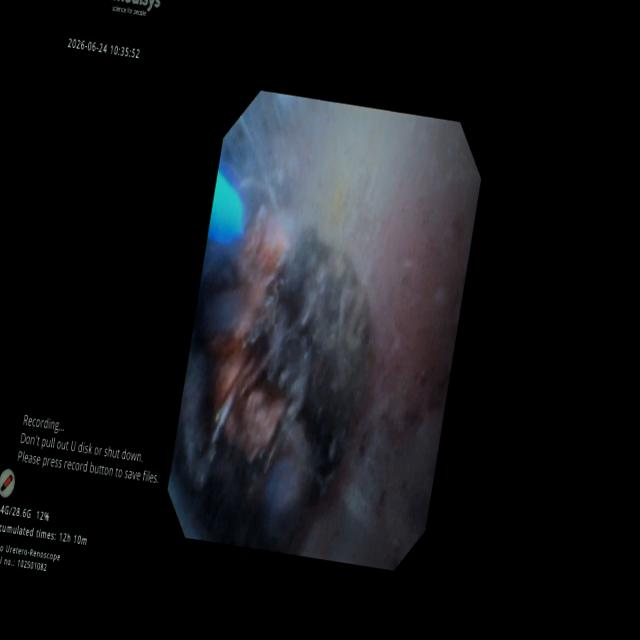stone-new: (171, 200, 372, 551)
